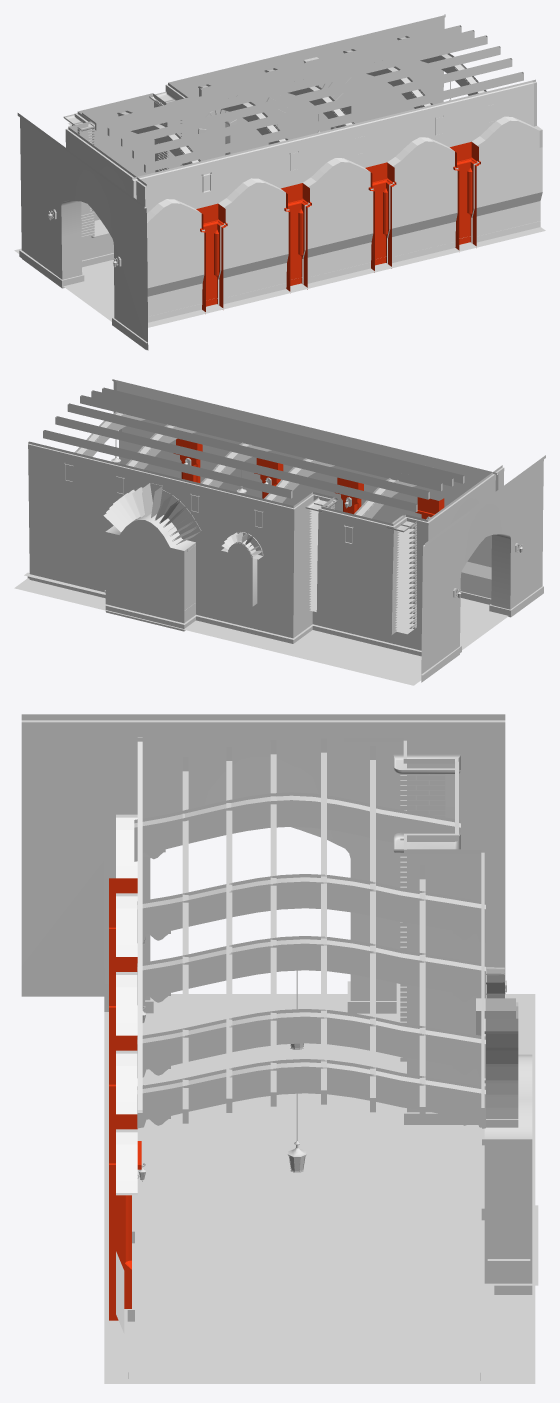
The model's file is Entry 2.fbx.
3 views of the same model, one above another, from view 1: azimuth 30°, elevation 25°; view 2: azimuth 150°, elevation 25°; view 3: azimuth 270°, elevation 25° (orthographic). The views are drawn at different scales.
Visible parts, largest first — view 1: Cube.007, Cube.000, Cylinder.010, Cylinder.004, Cylinder.005, Cube.005, Cube.001, Cube.041, Cube.004; view 2: Cylinder.004, Cube.000, Cylinder.010, Cylinder.005, Cube.007, Cube.005, Cube.041, Cube.001, Cube.004; view 3: Cube.005, Cylinder.010, Cube.001, Cube.007, Cube.000, Cylinder.005, Cylinder.004, Cube.041, Cube.004.
Boxes of the visible parts, x1,y1,x2,y2 form: Cube.007: (132, 80, 542, 322); Cube.000: (95, 25, 523, 172); Cylinder.010: (17, 113, 148, 350); Cylinder.004: (166, 14, 445, 161); Cylinder.005: (67, 83, 188, 260); Cube.005: (14, 227, 545, 327); Cube.001: (117, 36, 486, 192); Cube.041: (63, 57, 354, 238); Cube.004: (19, 221, 540, 349); Cylinder.004: (28, 441, 294, 643); Cube.000: (43, 387, 464, 512); Cylinder.010: (421, 455, 545, 682); Cylinder.005: (293, 492, 428, 656); Cube.007: (115, 380, 498, 598); Cube.005: (14, 578, 508, 685); Cube.041: (103, 483, 416, 634); Cube.001: (64, 411, 416, 543); Cube.004: (24, 572, 543, 680); Cube.005: (104, 994, 535, 1383); Cylinder.010: (21, 714, 505, 1011); Cube.001: (134, 792, 485, 1128); Cube.007: (109, 737, 142, 1333); Cube.000: (182, 738, 425, 1123); Cylinder.005: (396, 741, 484, 1112); Cylinder.004: (481, 853, 532, 1294); Cube.041: (393, 753, 518, 1128); Cube.004: (123, 980, 538, 1380).
Bounding box in the file's own units: 1471 × 514 × 809.
